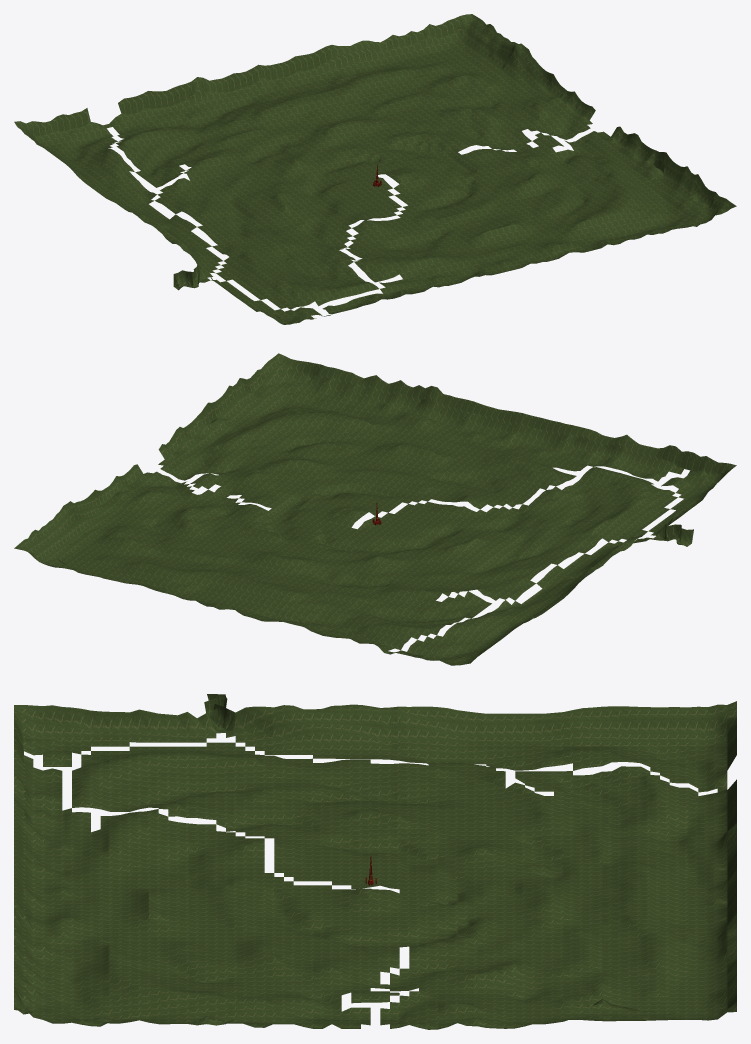
Rendered from gfaydark.glb.
3 views of the same model, one above another, from view 1: azimuth 30°, elevation 25°; view 2: azimuth 150°, elevation 25°; view 3: azimuth 270°, elevation 25° (orthographic). The views are drawn at different scales.
Visible parts, largest first — view 1: Node_0; view 2: Node_0; view 3: Node_0.
Part boxes in pixels (left/top/right/bottom): Node_0: left=14, top=14, right=736, bottom=324; Node_0: left=14, top=353, right=736, bottom=665; Node_0: left=14, top=694, right=736, bottom=1029.
Bounding box in the file's own units: 5302 × 296 × 5000.
Materials: 2 (2 with a texture image).
